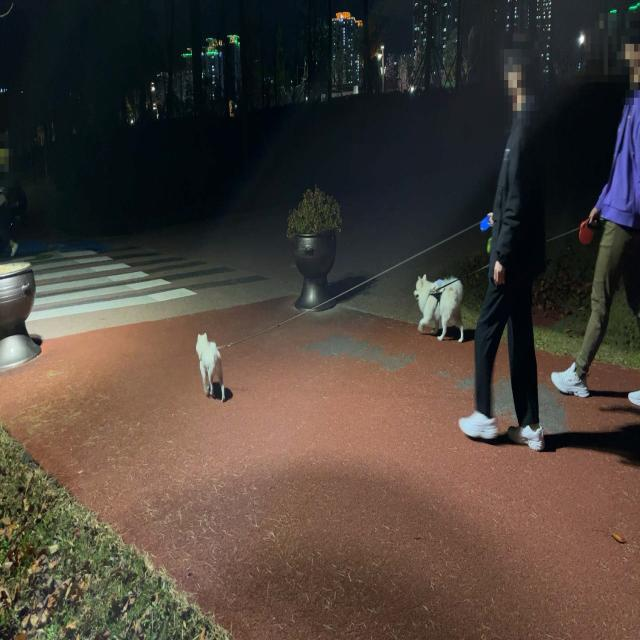Leashed_Dog: (195, 194, 518, 403), (412, 197, 632, 344)
